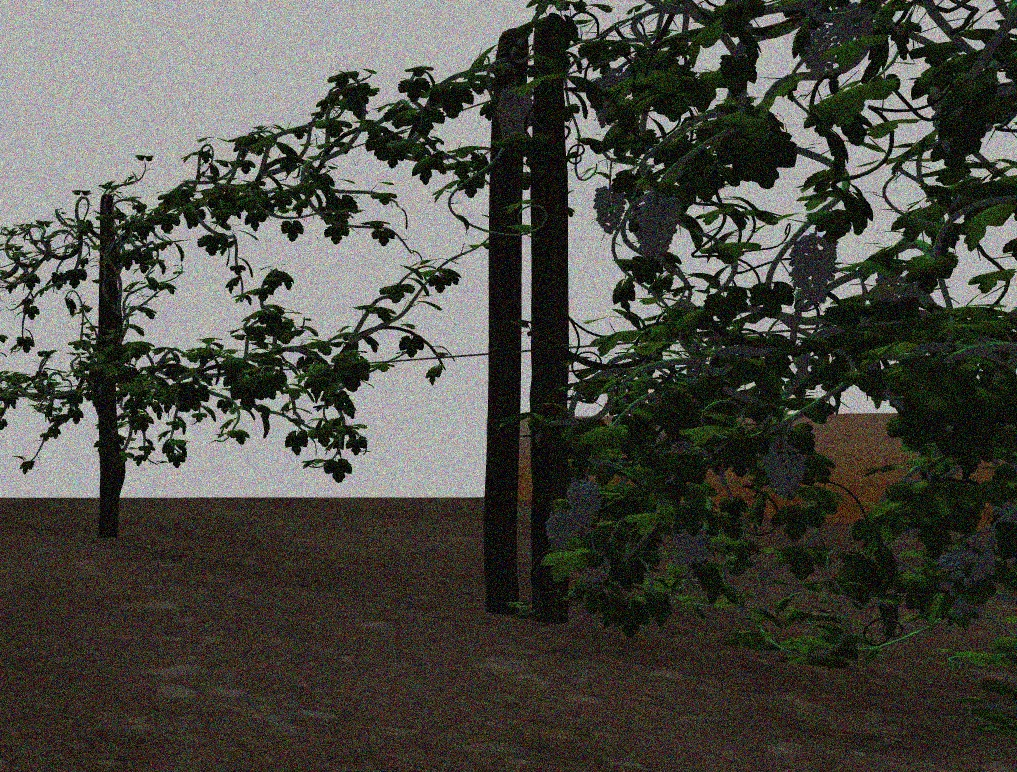grape: (789, 234, 839, 306), (636, 190, 680, 264), (760, 436, 808, 501), (941, 544, 995, 585), (495, 86, 533, 139), (802, 26, 843, 71), (674, 524, 712, 572), (591, 186, 627, 234), (567, 479, 602, 526), (545, 514, 580, 553)
